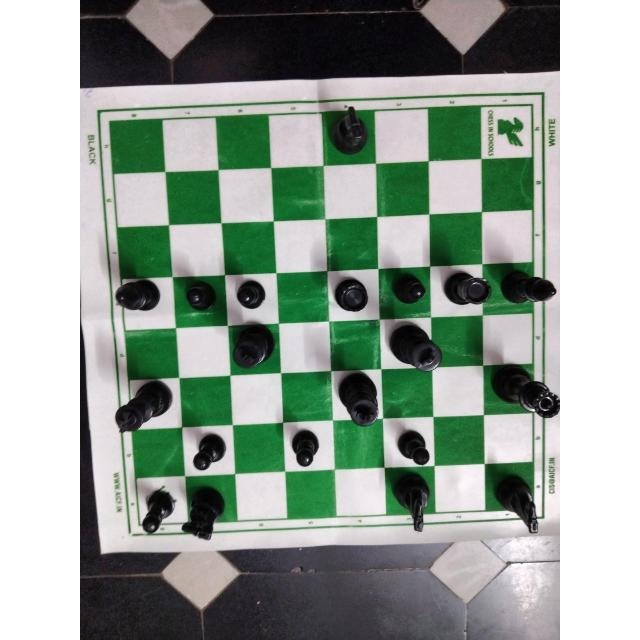black-bishop: (497, 264, 559, 316), (111, 279, 167, 316)
black-king: (382, 316, 446, 377), (110, 378, 178, 434), (331, 368, 381, 434), (226, 323, 274, 371)
black-knight: (491, 466, 543, 538), (386, 466, 439, 534), (181, 479, 229, 543), (329, 102, 372, 156)
black-pawn: (136, 484, 180, 533), (186, 430, 234, 471), (393, 421, 434, 466), (180, 278, 221, 318), (388, 270, 432, 307), (288, 425, 324, 469), (230, 277, 270, 310)
black-queen: (486, 360, 559, 428)
black-rook: (441, 263, 493, 313), (330, 276, 378, 319)
